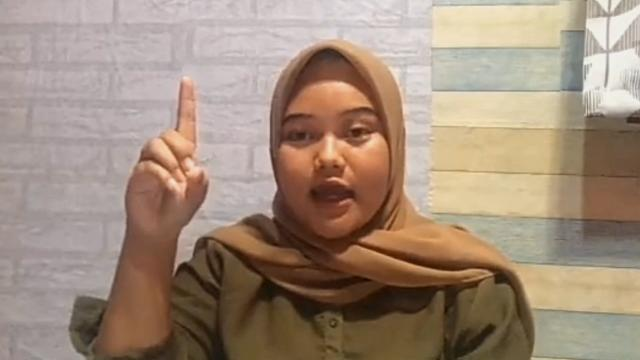D: (123, 76, 209, 234)
